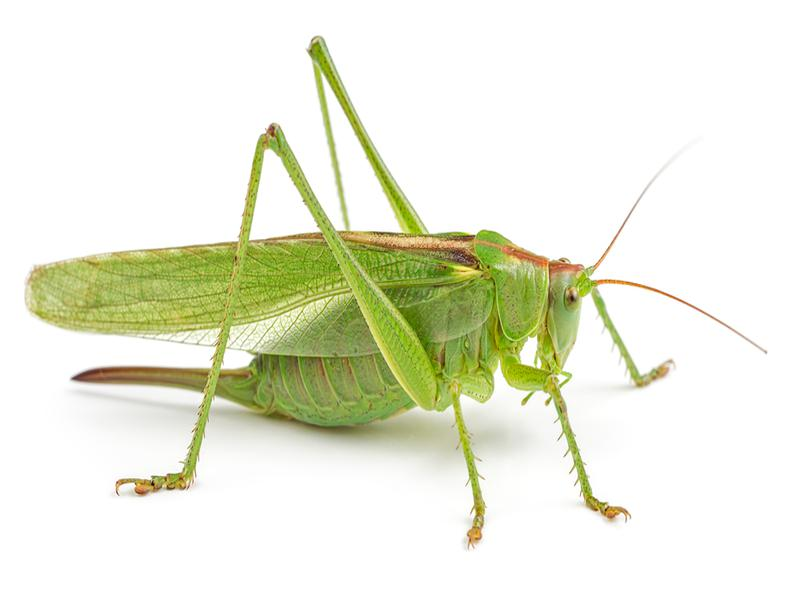Grasshopper: (17, 135, 729, 549)
